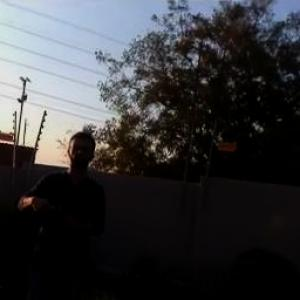follow: (4, 125, 110, 299)
